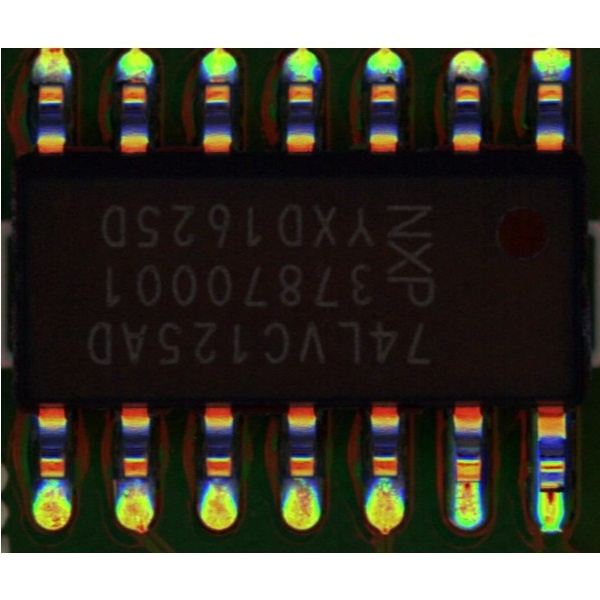Bad_podu: (541, 475, 559, 504), (458, 468, 472, 497)
